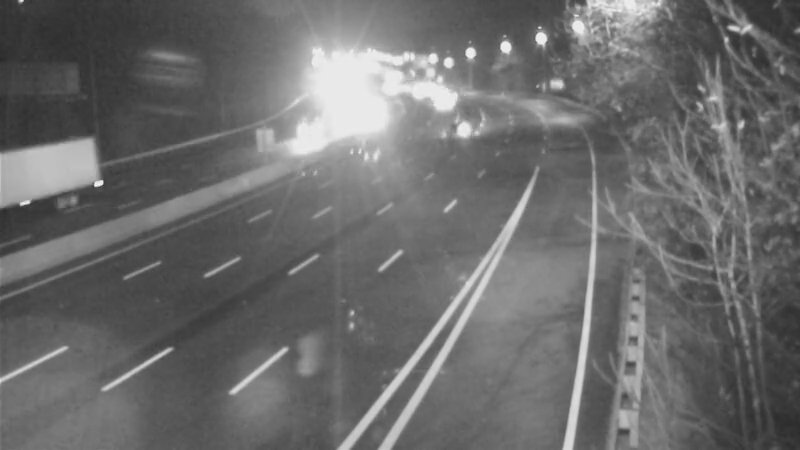vehicle: (1, 156, 75, 236), (416, 78, 466, 128), (435, 103, 485, 153), (285, 104, 335, 154)
